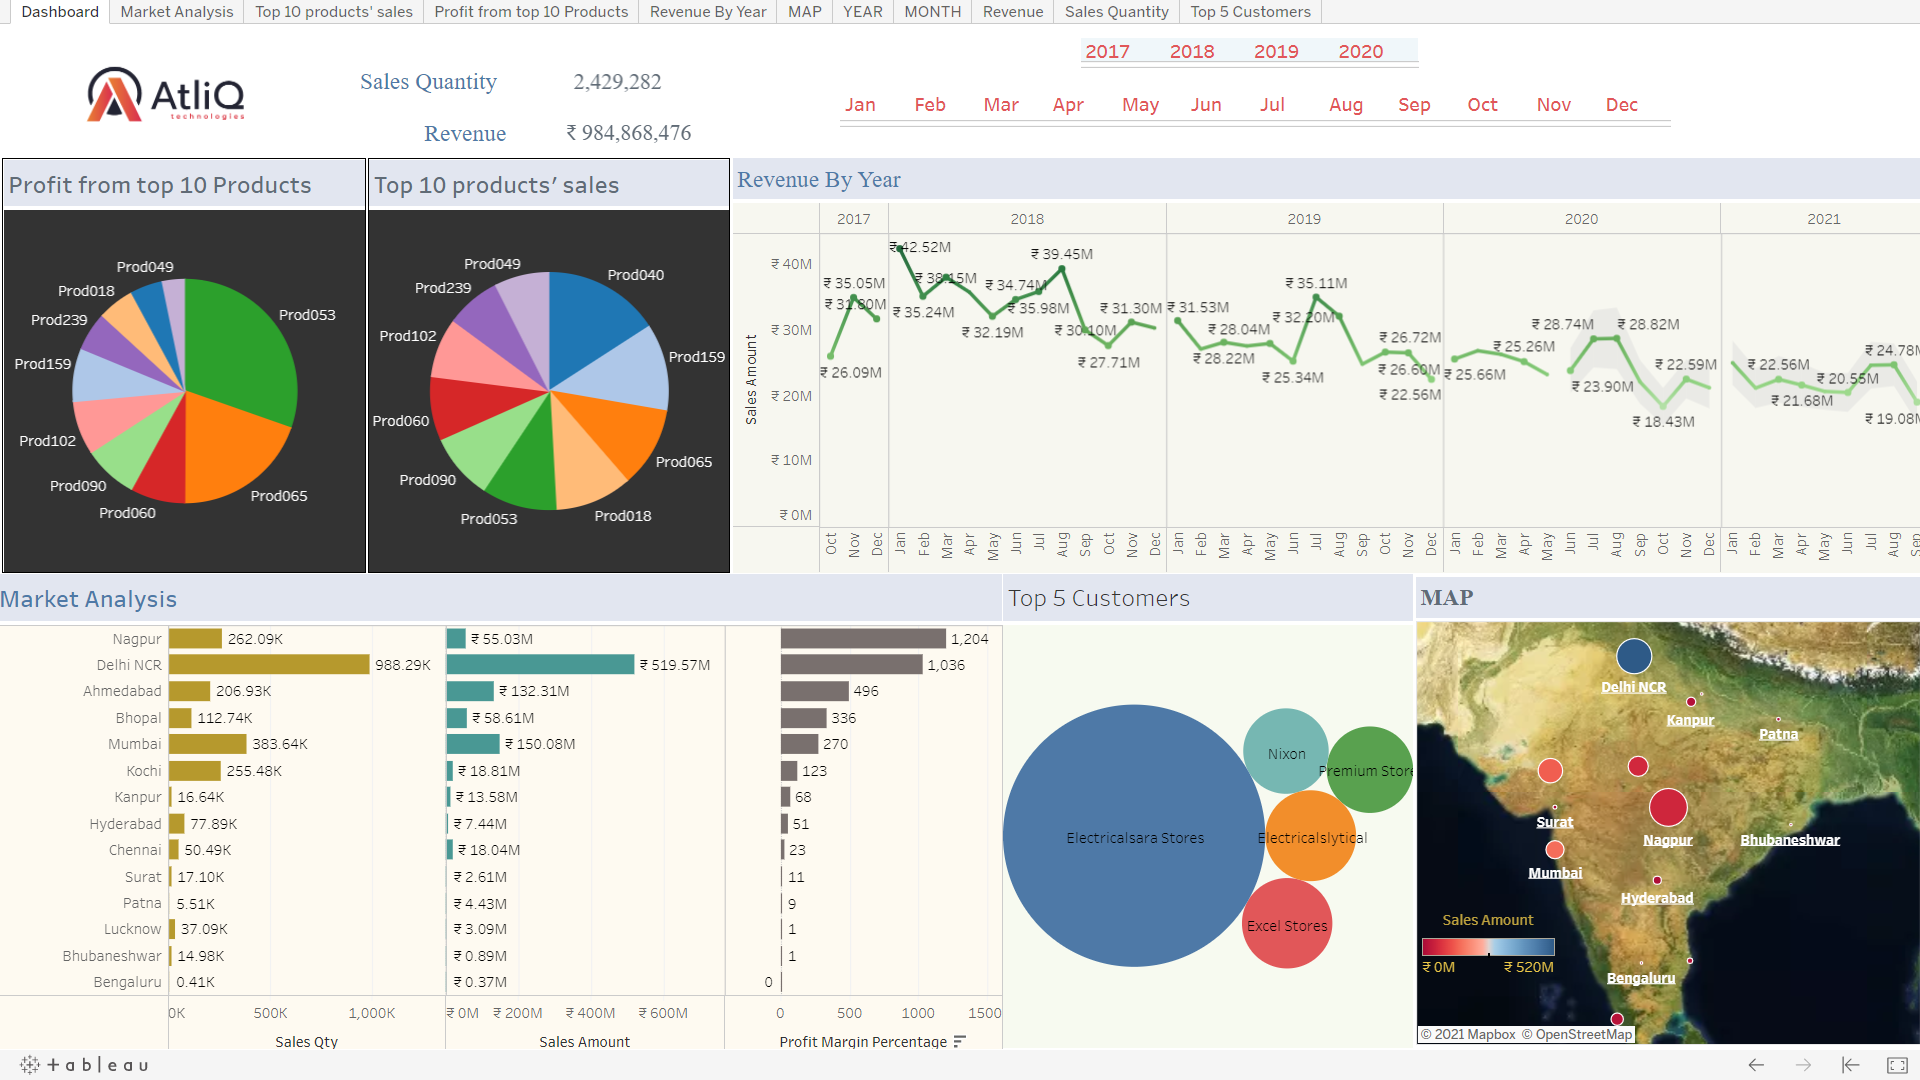

The page's visual inventory and layout, read from the dashboard file:
{"tool":"tableau","page":{"name":"Dashboard","canvas":[1000,1000],"units":"permille","ordinal":0},"visuals":[{"type":"image","box":[2.4,5.8,166.6,120.8]},{"type":"worksheet","title":"YEAR","mark":"Automatic","cols":["cy_date"],"box":[562.3,11.9,184.3,44.3]},{"type":"text","box":[187.5,34.8,96.4,38.3]},{"type":"worksheet","title":"Sales Quantity","mark":"Automatic","box":[287.6,34.8,58.8,39.5]},{"type":"worksheet","title":"MONTH","mark":"Automatic","cols":["cy_date"],"box":[437.2,59.1,524.4,69]},{"type":"text","box":[220.9,81.3,54,45.3]},{"type":"worksheet","title":"Revenue","mark":"Automatic","box":[280.2,81.3,96.9,46.5]},{"type":"worksheet","title":"Profit from top 10 Products","mark":"Pie","box":[1.3,129.5,189.3,405.4]},{"type":"worksheet","title":"Top 10 products' sales","mark":"Pie","box":[191.8,129.5,188.1,405.4]},{"type":"worksheet","title":"Revenue By Year","mark":"Automatic","rows":["sales_amount"],"cols":["cy_date","cy_date"],"box":[381.1,129.5,623.3,405.4]},{"type":"worksheet","title":"Top 5 Customers","mark":"Circle","box":[522,536.6,213.8,461.7]},{"type":"worksheet","title":"MAP","mark":"Automatic","box":[737.1,538.3,262.9,458.3]},{"type":"legend","title":"MAP","param":"[federated.1x0rwrg0nux9ng13furmc1mvehi4].[sum:sales_amount:qk]","box":[737.7,863.7,74.2,102.2]}]}

Visuals, with their boxes on the dashboard's canvas, which has no fixed pixel size, in thousandths of its width and height (x1, y1, x2, y2). These are canvas units, not pixel positions in the 1920x1080 screenshot, which may show the page scaled, cropped or inside an application window:
image: x1=2 y1=6 x2=169 y2=127
"YEAR" worksheet: x1=562 y1=12 x2=747 y2=56
text: x1=188 y1=35 x2=284 y2=73
"Sales Quantity" worksheet: x1=288 y1=35 x2=346 y2=74
"MONTH" worksheet: x1=437 y1=59 x2=962 y2=128
text: x1=221 y1=81 x2=275 y2=127
"Revenue" worksheet: x1=280 y1=81 x2=377 y2=128
"Profit from top 10 Products" worksheet (Pie marks): x1=1 y1=130 x2=191 y2=535
"Top 10 products' sales" worksheet (Pie marks): x1=192 y1=130 x2=380 y2=535
"Revenue By Year" worksheet: x1=381 y1=130 x2=1004 y2=535
"Top 5 Customers" worksheet (Circle marks): x1=522 y1=537 x2=736 y2=998
"MAP" worksheet: x1=737 y1=538 x2=1000 y2=997
"MAP" legend: x1=738 y1=864 x2=812 y2=966
